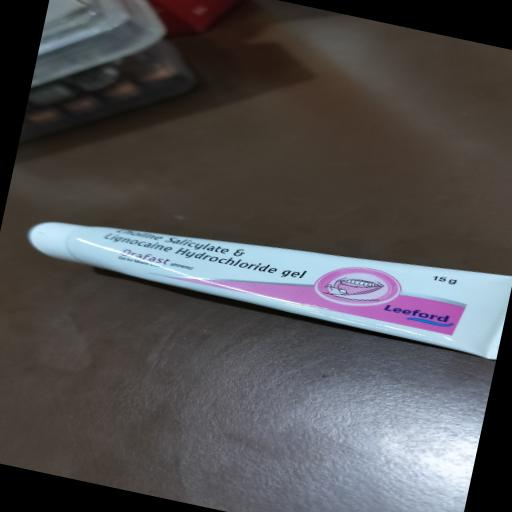hydrochloride-gel: (91, 212, 312, 282)
medicine: (33, 178, 512, 353)
